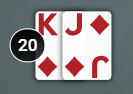j: (61, 8, 89, 39)
k: (33, 10, 61, 39)
